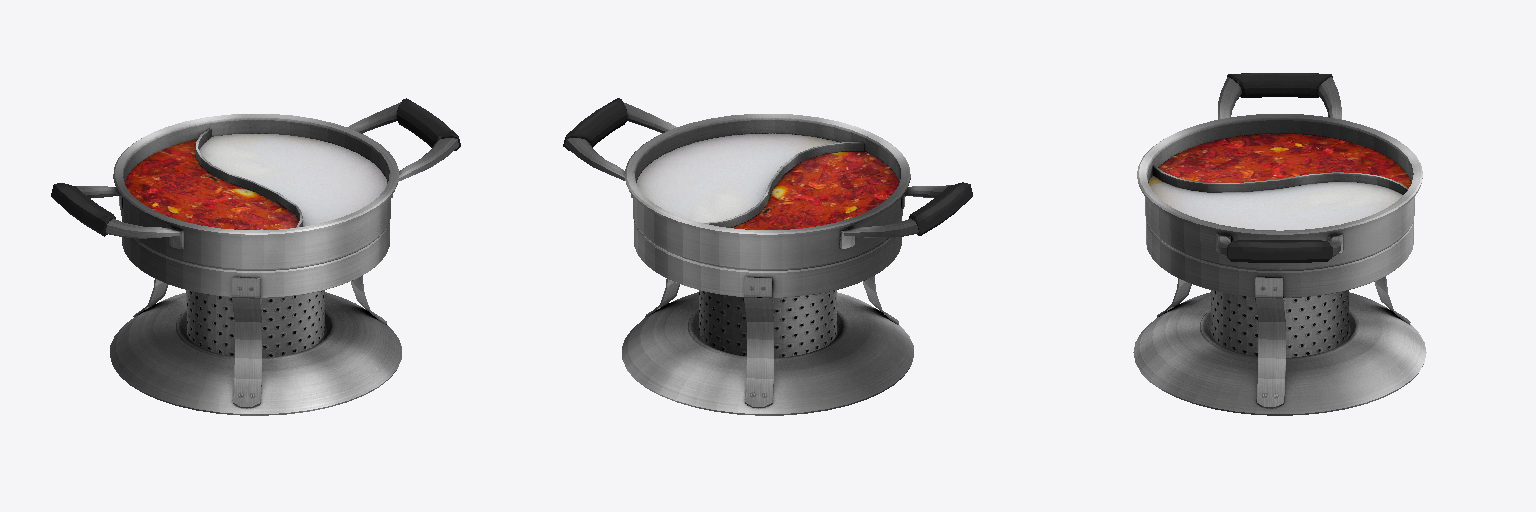
The picture shows the model from 3 angles: view 1: azimuth 30°, elevation 25°; view 2: azimuth 150°, elevation 25°; view 3: azimuth 270°, elevation 25°; orthographic projection.
Visible parts, largest first — view 1: Mesh (2); view 2: Mesh (2); view 3: Mesh (2).
Part boxes in pixels (bbox=[...]): Mesh (2): bbox=[51, 98, 460, 415]; Mesh (2): bbox=[563, 98, 972, 415]; Mesh (2): bbox=[1133, 73, 1426, 415].
Size of the model in its own units: 0.5593 by 0.288 by 0.3894.
Materials: 1 (1 with a texture image).